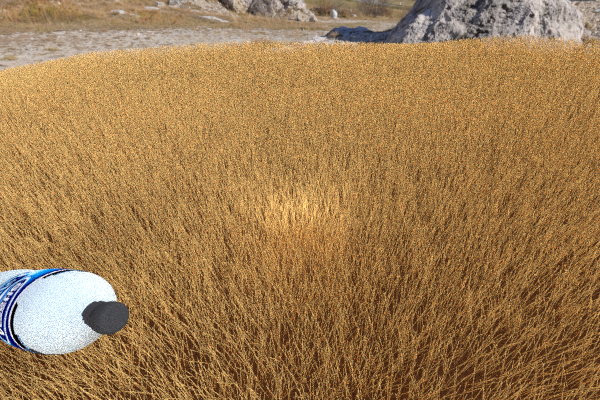bottle: (0, 268, 129, 354)
can: (410, 106, 466, 143)
